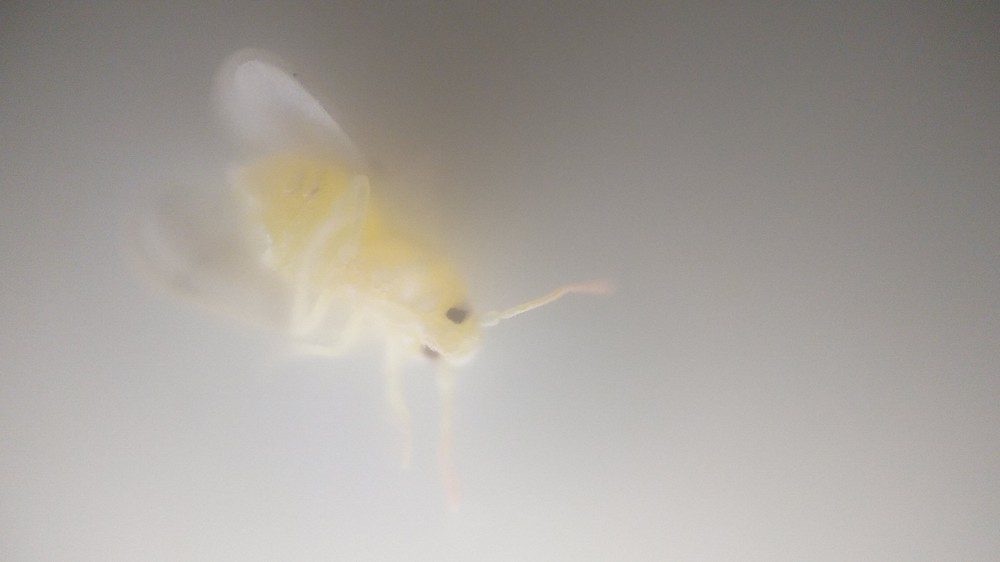Mosca Blanca: (119, 39, 634, 523)
